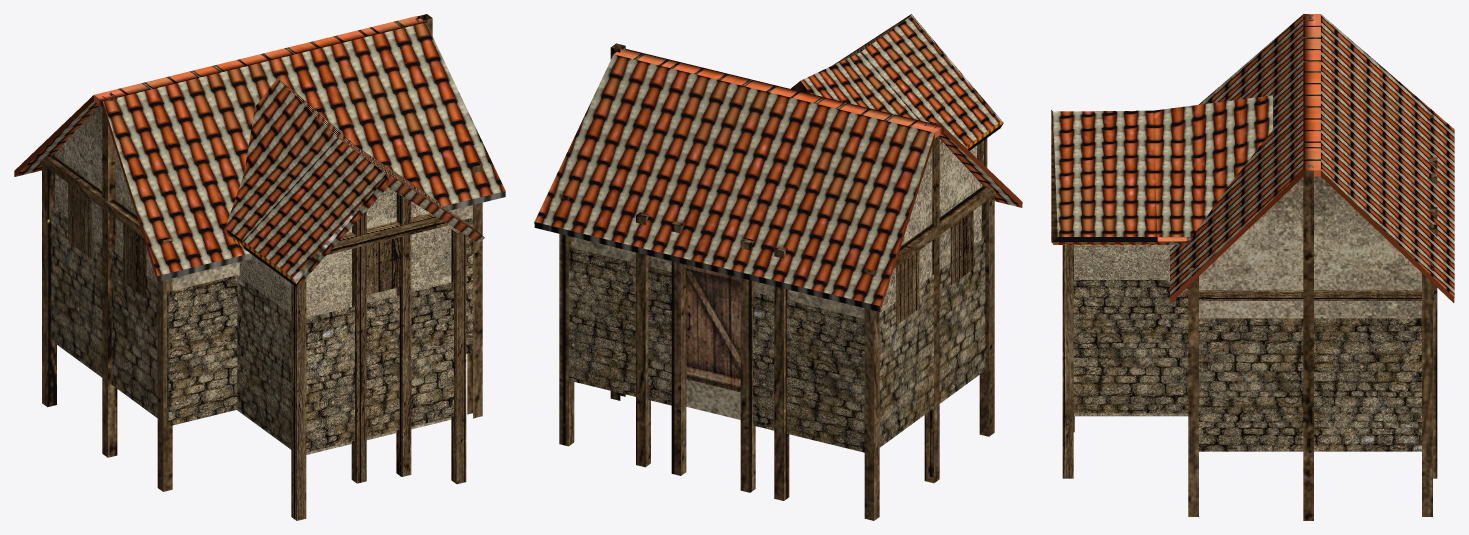
The model's file is house_2.dae.
The picture shows the model from 3 angles, left to right: view 1: azimuth 30°, elevation 25°; view 2: azimuth 150°, elevation 25°; view 3: azimuth 270°, elevation 25°; orthographic projection.
Visible parts, largest first — view 1: house_2; view 2: house_2; view 3: house_2.
Part boxes in pixels (x1,y1,x2,y2): house_2: [14, 14, 505, 520]; house_2: [534, 14, 1022, 520]; house_2: [1051, 14, 1454, 520].
Size of the model in its own units: 13.25 by 13.41 by 13.14.
